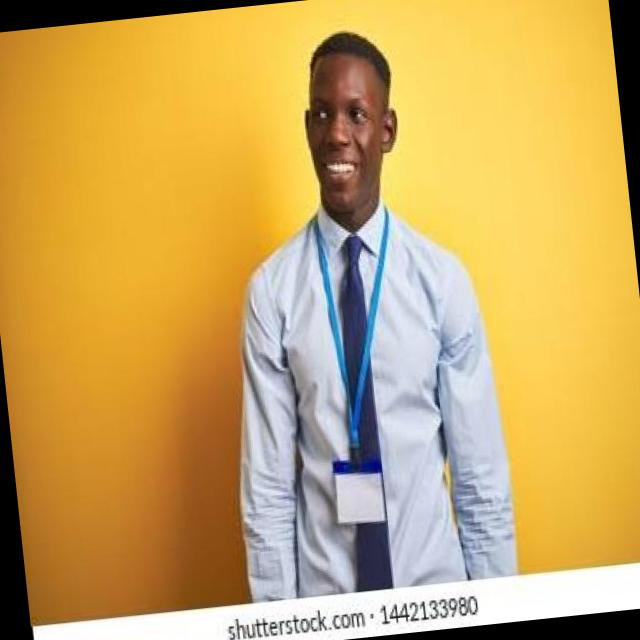id_card: (300, 218, 416, 528)
